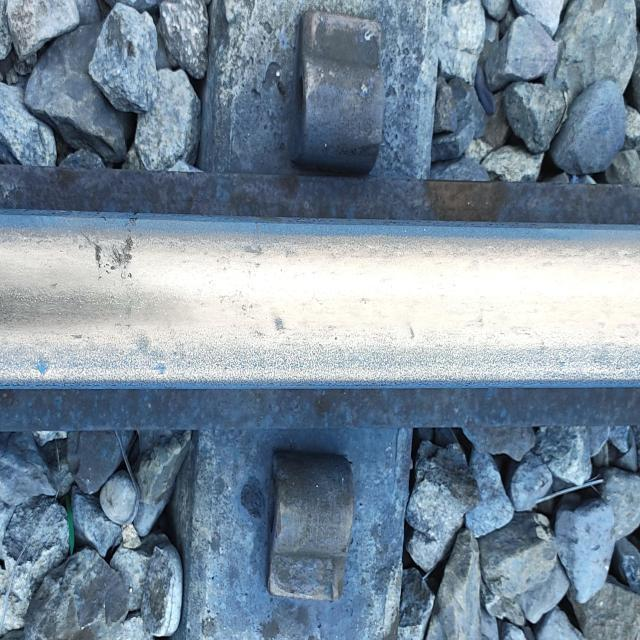Missing Fastener: (249, 2, 421, 193), (236, 442, 382, 606)
